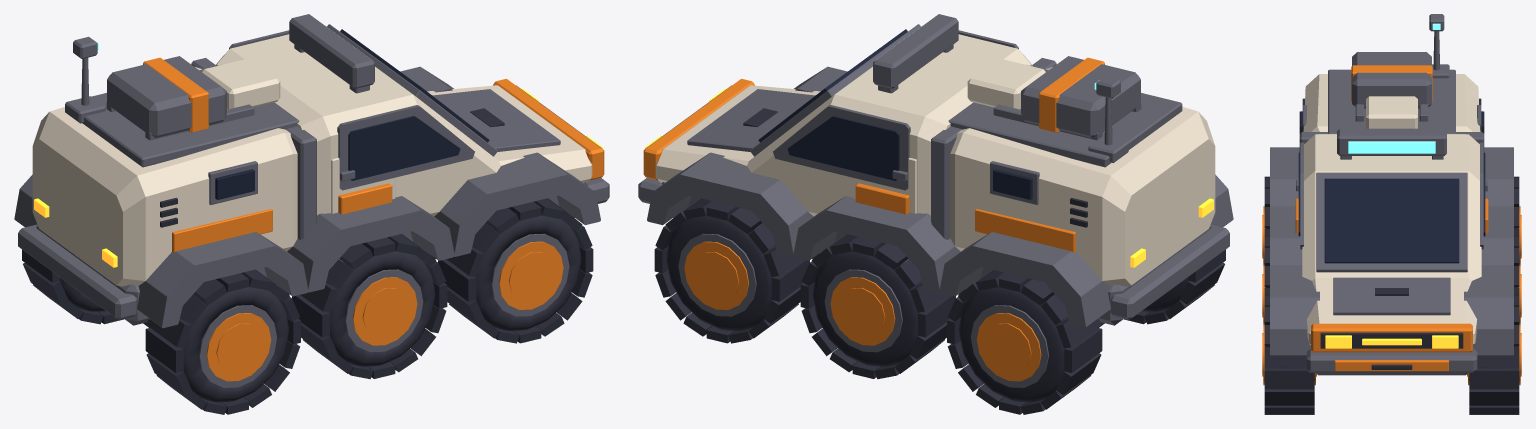
Rendered from asset.glb.
3 renders of one model, left to right at view 1: azimuth 30°, elevation 25°; view 2: azimuth 150°, elevation 25°; view 3: azimuth 270°, elevation 25°, orthographic. The views are drawn at different scales.
Parts seen in each view (by area): view 1: Mesh_RearHabitatHull, Mesh_CabinHull, Mesh_RightRearFender, Mesh_RightFrontFender, Mesh_RightMiddleFender, Mesh_RoofCargoLarge, Mesh_RoofRackPlatform, Mesh_SideWindow_1, Mesh_RightRearTyre, Mesh_RightFrontTyre, Mesh_RightMiddleTyre, Mesh_HoodInset (+41 smaller); view 2: Mesh_RearHabitatHull, Mesh_CabinHull, Mesh_LeftRearFender, Mesh_LeftFrontFender, Mesh_LeftMiddleFender, Mesh_RoofRackPlatform, Mesh_RoofCargoLarge, Mesh_SideWindow_-1, Mesh_LeftRearTyre, Mesh_LeftFrontTyre, Mesh_LeftMiddleTyre, Mesh_HoodInset (+41 smaller); view 3: Mesh_FrontWindshield, Mesh_CabinHull, Mesh_HoodInset, Mesh_WindshieldGasket, Mesh_LeftFrontFender, Mesh_RightFrontFender, Mesh_RoofCargoLarge, Mesh_RoofRackPlatform, Mesh_HeadlightRecess, Mesh_RearHabitatHull, Mesh_FrontBumper, Mesh_RoofLightbarHousing (+29 smaller).
Boxes of the visible parts, x1,y1,x2,y2 form: Mesh_RearHabitatHull: (32,67,297,286); Mesh_CabinHull: (215,34,592,216); Mesh_RightRearFender: (137,232,308,328); Mesh_RightFrontFender: (434,152,600,256); Mesh_RightMiddleFender: (287,196,454,292); Mesh_RoofCargoLarge: (107,56,226,137); Mesh_RoofRackPlatform: (82,65,299,167); Mesh_SideWindow_1: (348,116,460,180); Mesh_RightRearTyre: (180,287,288,402); Mesh_RightFrontTyre: (472,215,581,330); Mesh_RightMiddleTyre: (326,251,434,366); Mesh_HoodInset: (432,89,560,151); Mesh_RearHabitatHull: (950,67,1215,286); Mesh_CabinHull: (655,34,1032,216); Mesh_LeftRearFender: (939,232,1110,328); Mesh_LeftFrontFender: (647,152,813,256); Mesh_LeftMiddleFender: (793,196,960,292); Mesh_RoofRackPlatform: (948,65,1182,167); Mesh_RoofCargoLarge: (1021,56,1140,137); Mesh_SideWindow_-1: (787,116,899,180); Mesh_LeftRearTyre: (959,287,1067,402); Mesh_LeftFrontTyre: (666,215,775,330); Mesh_LeftMiddleTyre: (813,251,921,366); Mesh_HoodInset: (687,89,815,151); Mesh_FrontWindshield: (1324,178,1459,263); Mesh_CabinHull: (1302,134,1481,345); Mesh_HoodInset: (1333,277,1450,315); Mesh_WindshieldGasket: (1316,172,1467,272); Mesh_LeftFrontFender: (1464,265,1513,355); Mesh_RightFrontFender: (1270,265,1319,355); Mesh_RoofCargoLarge: (1352,52,1431,108); Mesh_RoofRackPlatform: (1328,69,1455,133); Mesh_HeadlightRecess: (1311,323,1472,352); Mesh_RearHabitatHull: (1303,74,1480,131); Mesh_FrontBumper: (1306,348,1477,372); Mesh_RoofLightbarHousing: (1337,128,1446,155).
Bounding box in the file's own units: 4.49 × 2.63 × 2.43.
